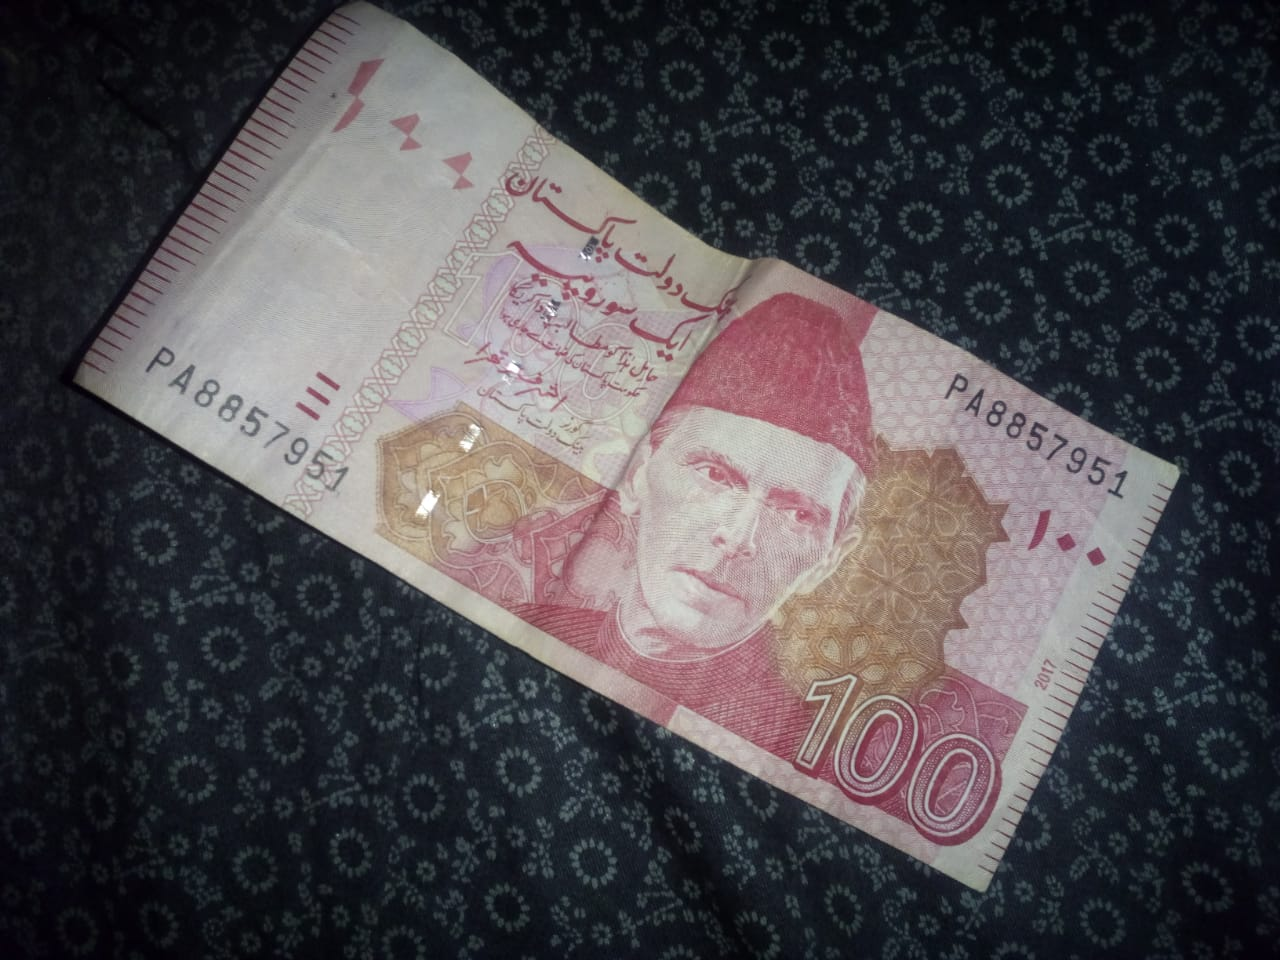100 rupee: (48, 10, 1191, 923)
